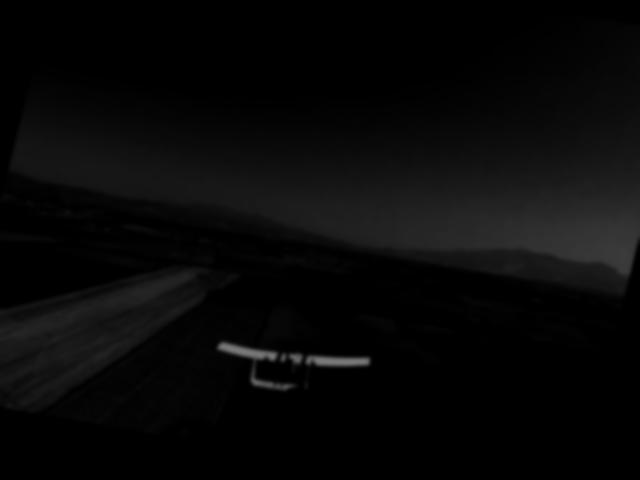hedef: (189, 307, 388, 433)
